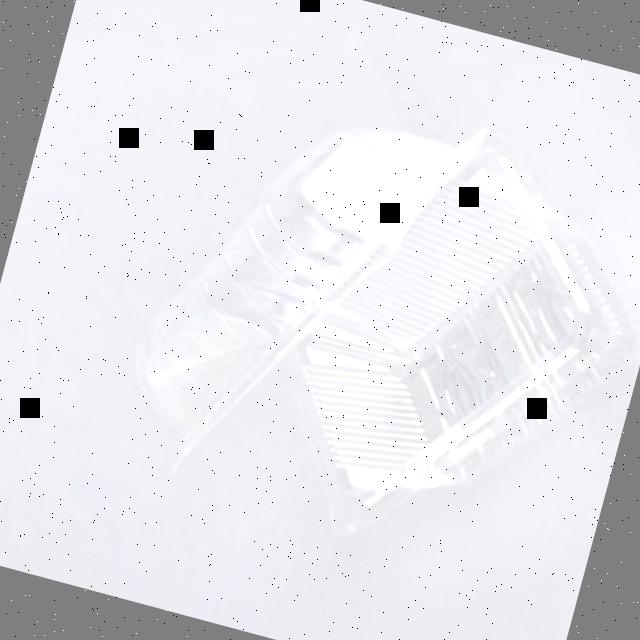plastic_box: (95, 53, 640, 603)
